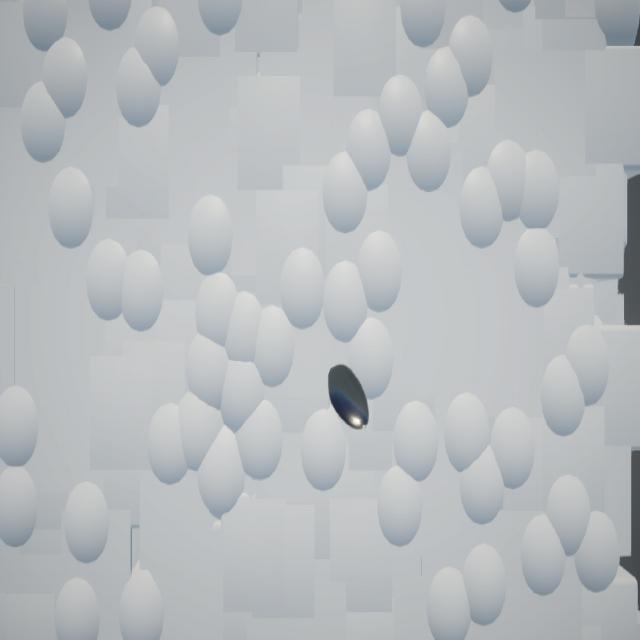top_spoon: (329, 364, 370, 431)
